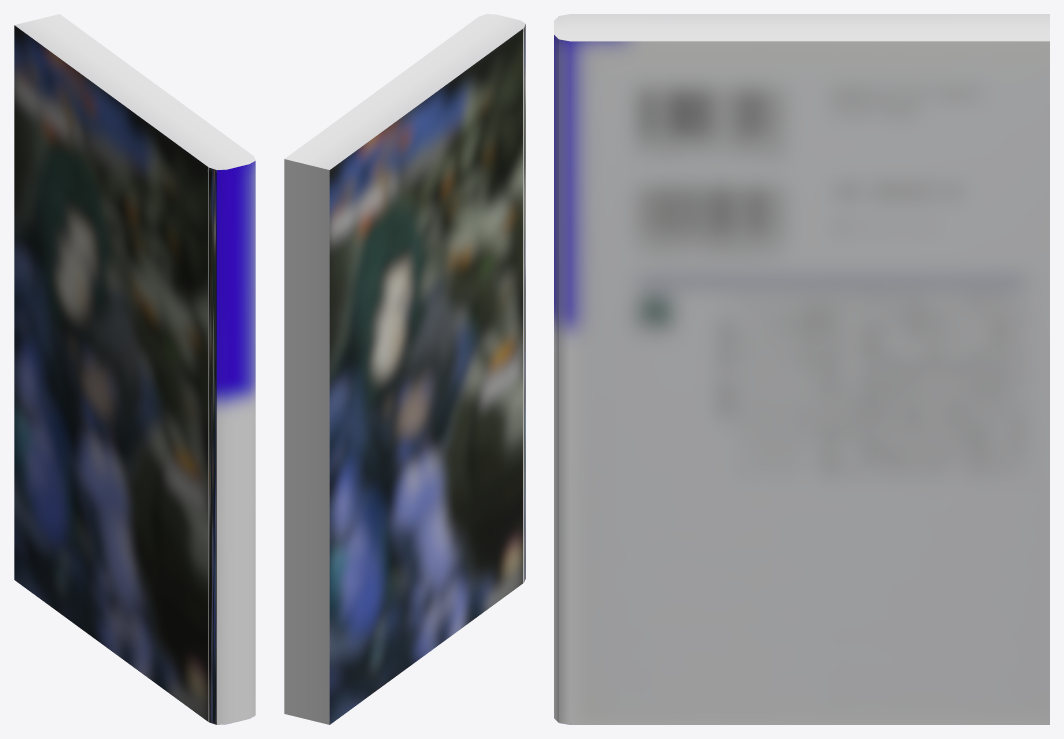
File: Muv3.fbx
3 views of the same model, side by side, from view 1: azimuth 30°, elevation 25°; view 2: azimuth 150°, elevation 25°; view 3: azimuth 270°, elevation 25° (orthographic). The views are drawn at different scales.
Parts seen in each view (by area): view 1: Muv3; view 2: Muv3; view 3: Muv3.
Part boxes in pixels (x1,y1,x2,y2): Muv3: [14, 14, 255, 724]; Muv3: [284, 14, 525, 724]; Muv3: [554, 14, 1049, 724].
Size of the model in its own units: 1.5 by 17.5 by 11.5.
